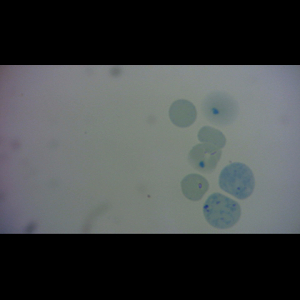erythrocyte: (186, 141, 224, 175), (167, 98, 199, 129), (179, 173, 211, 202), (196, 125, 228, 150)
punctate reticulocyte: (217, 161, 256, 201), (202, 192, 243, 230)
